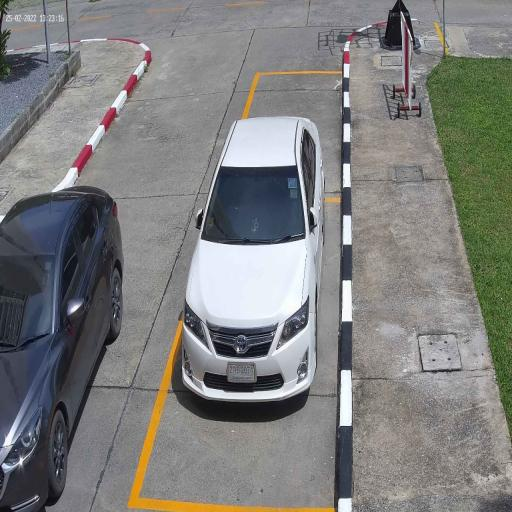car: (182, 112, 326, 406), (0, 184, 125, 512)
